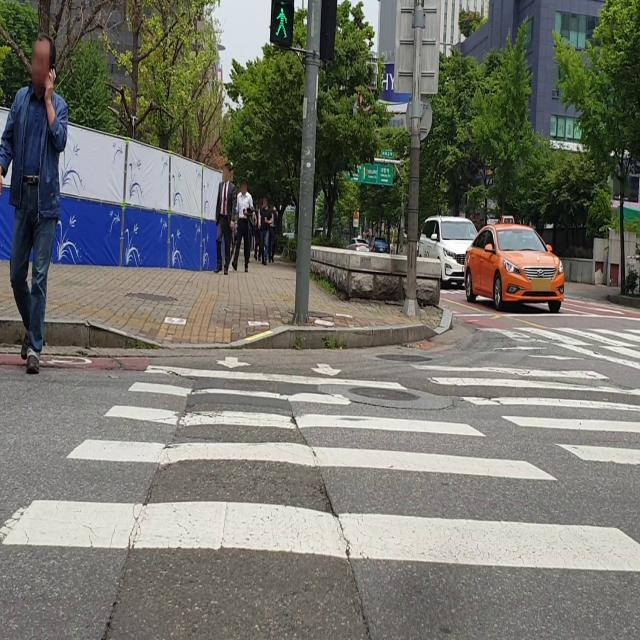초록불: (270, 0, 294, 48)
횡단보도: (5, 350, 637, 578)
